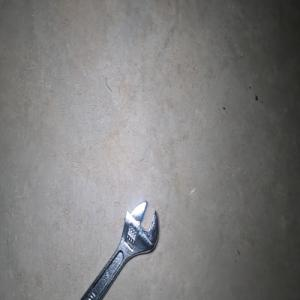Wrench: (80, 200, 158, 300)
